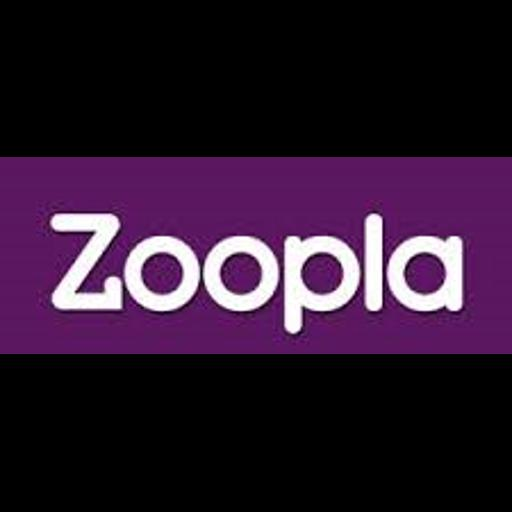Zoopla: (0, 157, 512, 354)
